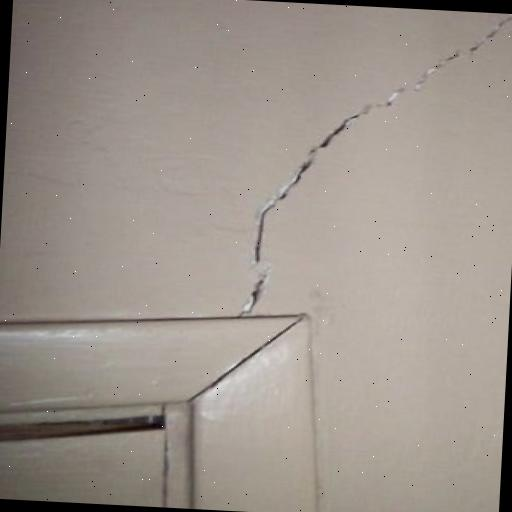spalling: (233, 14, 512, 313)
